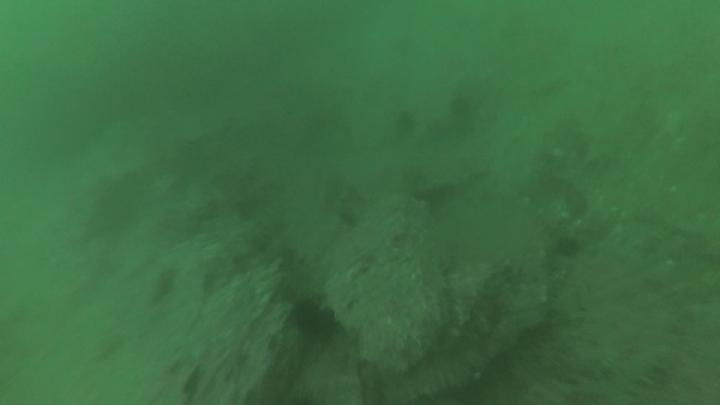echinus: (294, 301, 332, 341)
